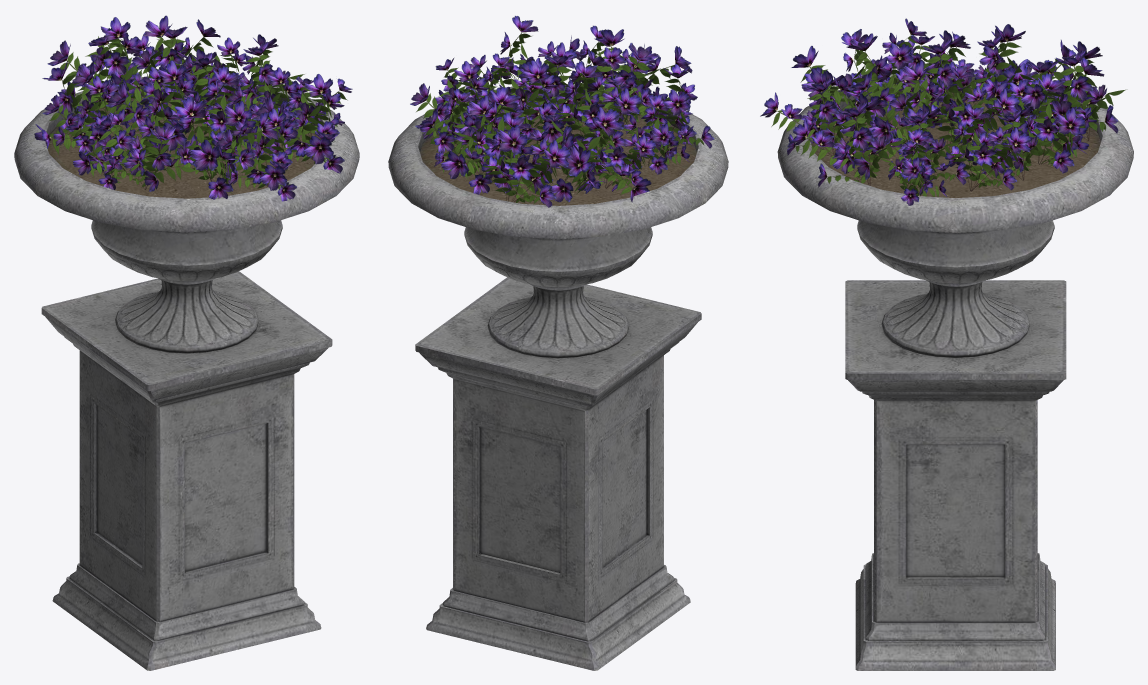
File: garden_urn.glb
3 views of the same model, side by side, from view 1: azimuth 30°, elevation 25°; view 2: azimuth 150°, elevation 25°; view 3: azimuth 270°, elevation 25° (orthographic). The views are drawn at different scales.
Visible parts, largest first — view 1: GardenUrn_GardenUrn_0, Frowers_Flowers_0; view 2: GardenUrn_GardenUrn_0, Frowers_Flowers_0; view 3: GardenUrn_GardenUrn_0, Frowers_Flowers_0.
Boxes of the visible parts, x1,y1,x2,y2 form: GardenUrn_GardenUrn_0: [14, 76, 359, 670]; Frowers_Flowers_0: [34, 15, 352, 201]; GardenUrn_GardenUrn_0: [388, 84, 728, 670]; Frowers_Flowers_0: [410, 16, 714, 207]; GardenUrn_GardenUrn_0: [777, 72, 1133, 670]; Frowers_Flowers_0: [760, 18, 1126, 205].
Size of the model in its own units: 65.13 by 117 by 68.92.
Materials: 2 (2 with a texture image).
